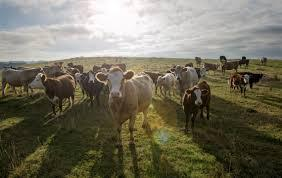cow: (97, 68, 154, 147), (29, 74, 75, 117), (182, 82, 211, 133), (1, 69, 43, 96), (170, 65, 198, 92), (83, 71, 98, 103), (230, 73, 250, 95), (221, 60, 239, 74), (204, 62, 221, 75)
